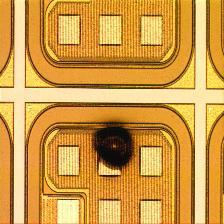PARTICLE: (88, 118, 144, 174)
